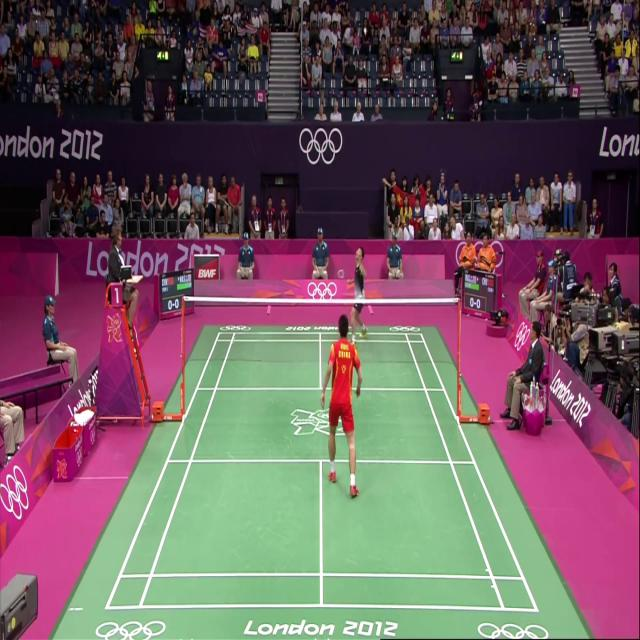Net: (180, 294, 461, 369)
Player1: (319, 315, 362, 497)
Player2: (337, 242, 372, 366)
Shuttlecock: (359, 18, 372, 39)
